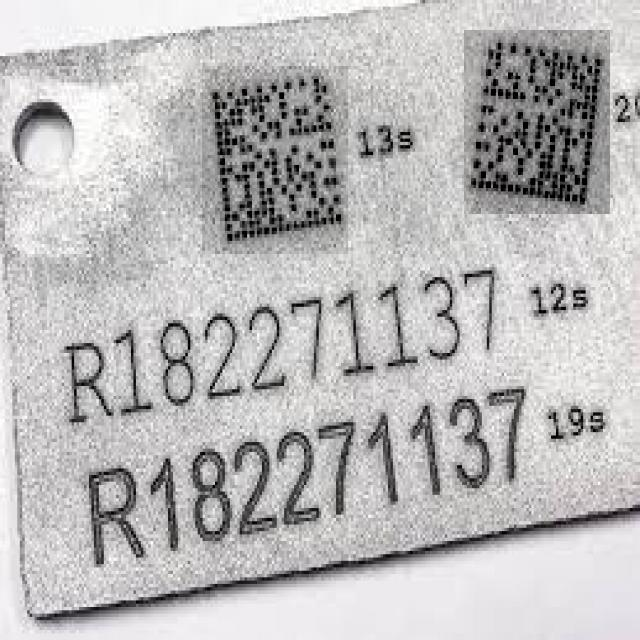DataMatrix: (203, 66, 349, 254), (465, 30, 611, 214)
